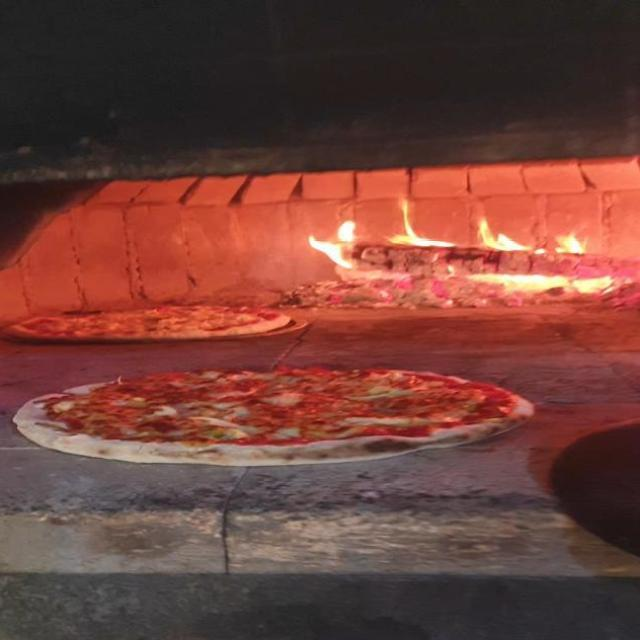smoke: (306, 214, 372, 275), (450, 274, 613, 296), (389, 199, 444, 254), (470, 208, 532, 256), (550, 226, 588, 258)
